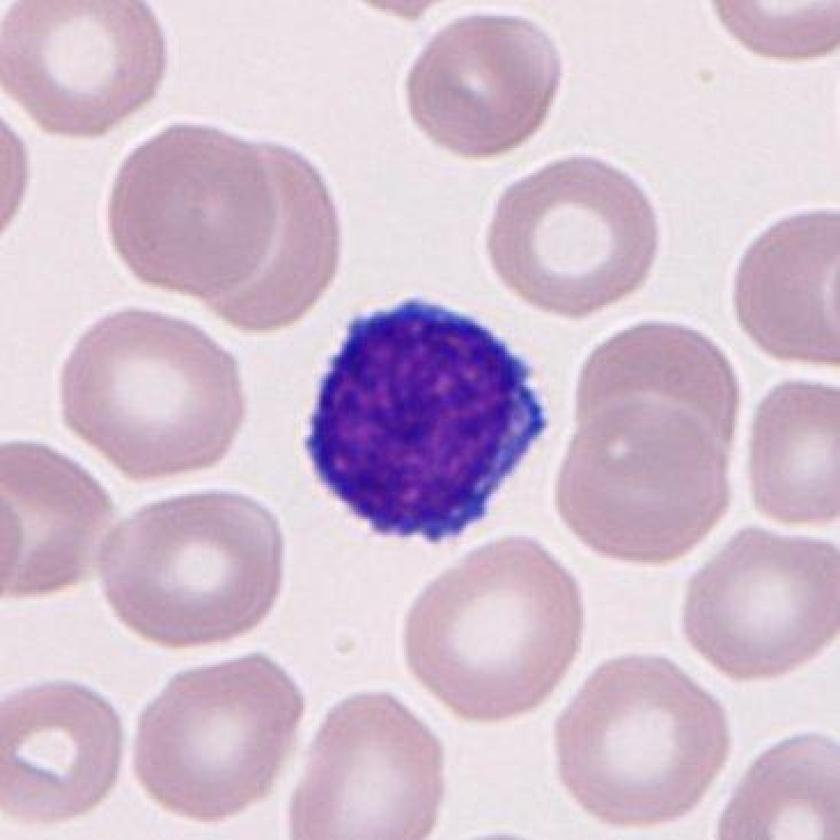lymphocyte: (292, 283, 561, 559)
